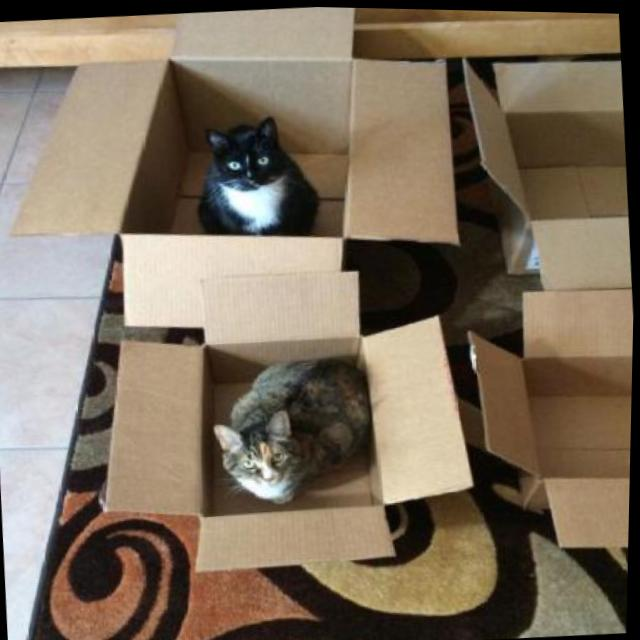box: (75, 222, 493, 640), (0, 0, 479, 343), (430, 263, 636, 625), (423, 19, 637, 297)
